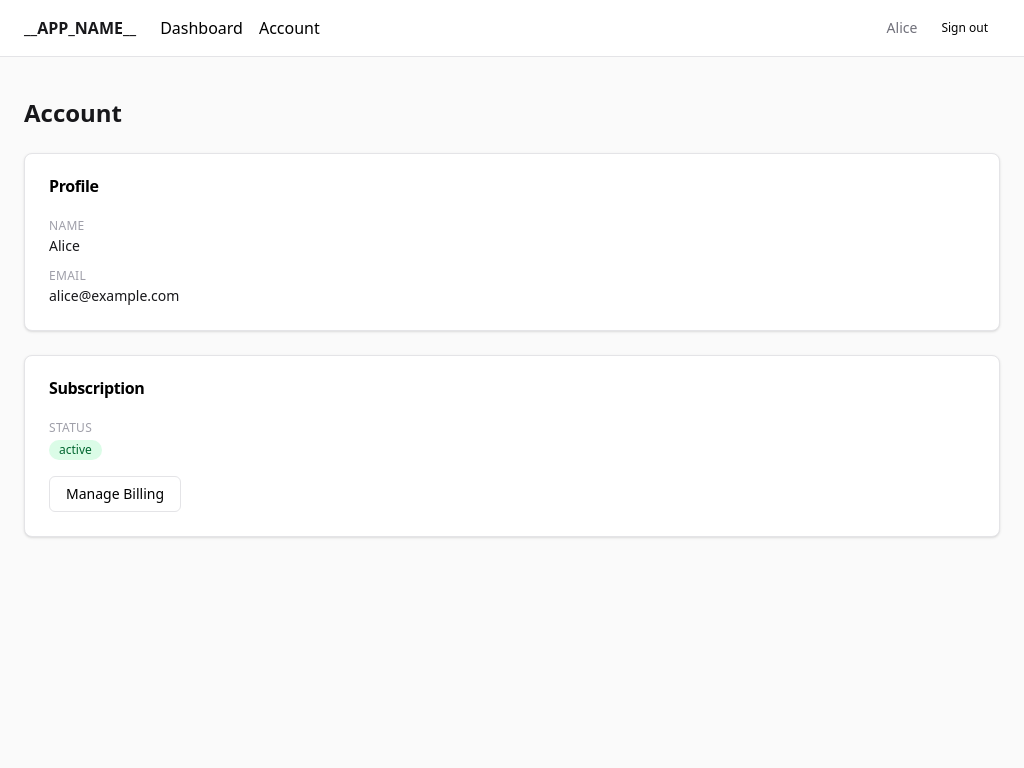
Test: AccountPage › shows error when billing portal fails
This screenshot has width=1024, height=768.
Click the button "Manage Billing": [115, 494] box [49, 476, 181, 512]
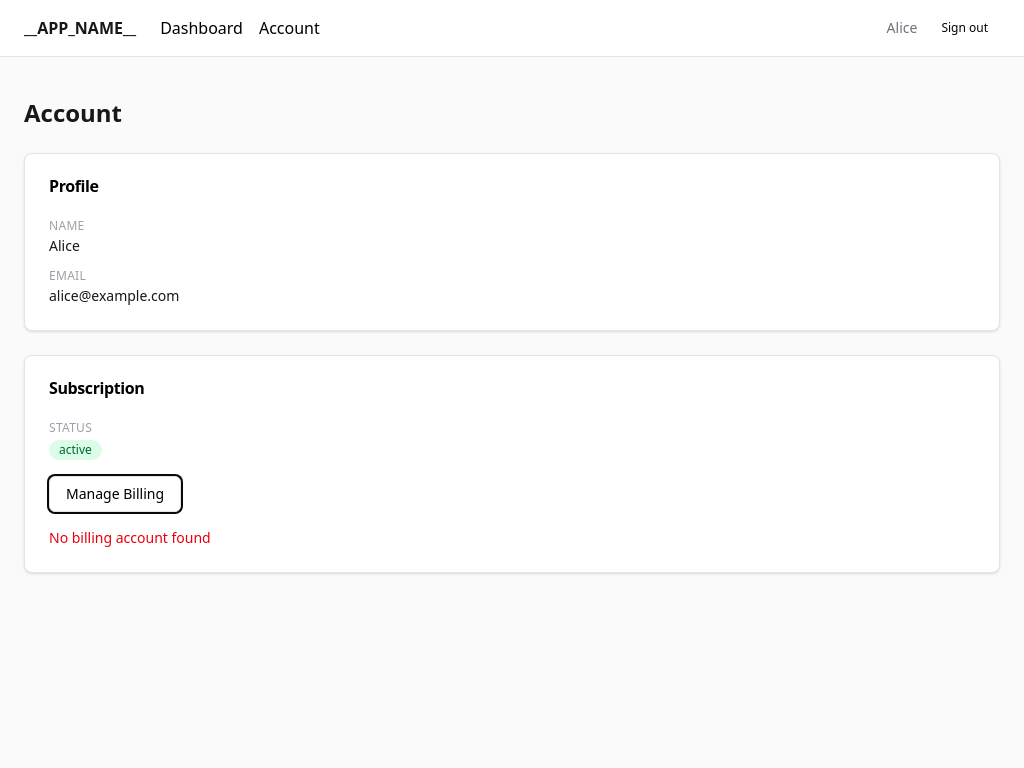
Expected: the text "No billing account found" is shown, [49, 528, 211, 547]
